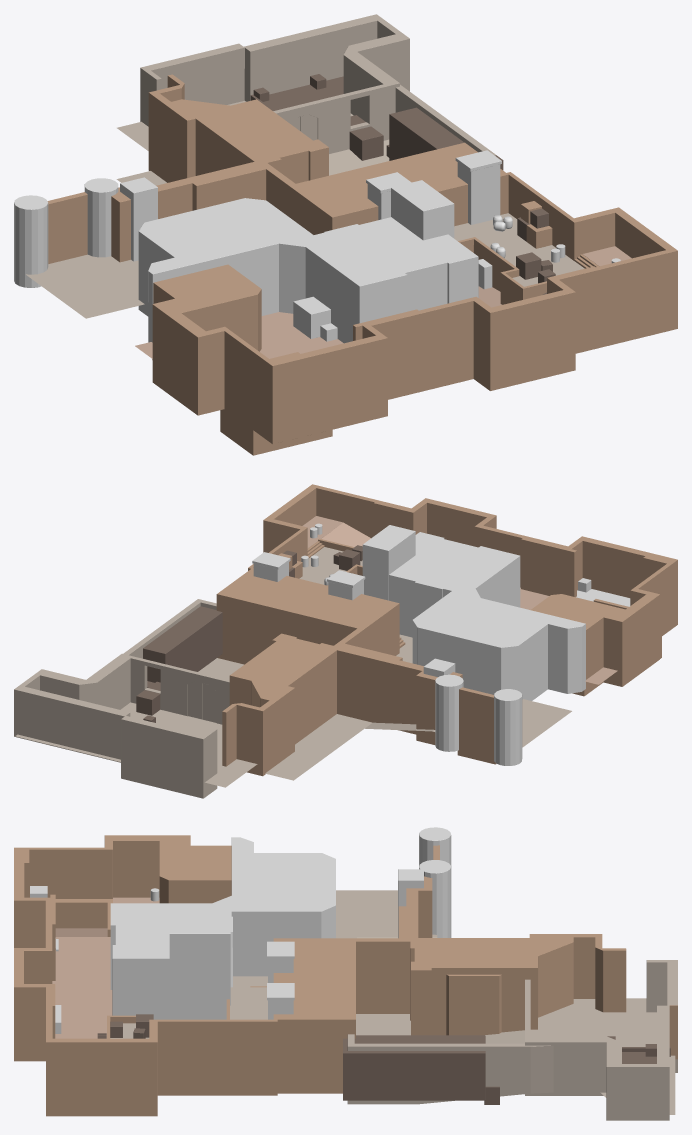
Rendered from DUST2_v0.0.2_alpha.fbx.
3 renders of one model, top to bottom at view 1: azimuth 30°, elevation 25°; view 2: azimuth 150°, elevation 25°; view 3: azimuth 270°, elevation 25°, orthographic. The views are drawn at different scales.
Parts seen in each view (by area): view 1: Cube.034, Cube.011, Cube.001, Cylinder.008, Cube.019, Cube.026, Cube.025, Cube.024, Cube.047, Cube.038, Cube.022, Cube.046; view 2: Cube.034, Cube.011, Cube.001, Cylinder.008, Cube.047, Cube.026, Cube.019, Cube.025, Cube.024, Cube.043, Cube.044, Cube.045 (+1 smaller); view 3: Cube.034, Cube.011, Cube.001, Cube.047, Cube.019, Cube.026, Cube.031, Cylinder.008, Cube.025, Cube.024.
Part boxes in pixels (<box>): Cube.034: <box>47,14,677,455</box>; Cube.011: <box>138,198,478,343</box>; Cube.001: <box>26,84,584,318</box>; Cylinder.008: <box>14,178,118,287</box>; Cube.019: <box>135,246,631,358</box>; Cube.026: <box>391,180,454,240</box>; Cube.025: <box>120,172,411,261</box>; Cube.024: <box>455,150,501,224</box>; Cube.047: <box>389,107,503,170</box>; Cube.038: <box>263,76,343,110</box>; Cube.022: <box>293,296,330,338</box>; Cube.046: <box>349,126,383,160</box>; Cube.034: <box>14,484,677,798</box>; Cube.011: <box>389,532,585,700</box>; Cube.001: <box>15,547,571,787</box>; Cylinder.008: <box>435,674,522,765</box>; Cube.047: <box>143,606,222,682</box>; Cube.026: <box>362,525,415,600</box>; Cube.019: <box>302,516,617,684</box>; Cube.025: <box>327,570,455,676</box>; Cube.024: <box>252,552,290,581</box>; Cube.043: <box>136,690,160,715</box>; Cube.044: <box>188,681,202,719</box>; Cube.045: <box>202,683,216,722</box>; Cube.034: <box>14,835,677,1120</box>; Cube.011: <box>110,837,335,1019</box>; Cube.001: <box>110,890,675,1114</box>; Cube.047: <box>343,1035,485,1100</box>; Cube.019: <box>52,897,159,1038</box>; Cube.026: <box>169,919,230,1019</box>; Cube.031: <box>446,974,501,1035</box>; Cylinder.008: <box>419,827,451,937</box>; Cube.025: <box>267,869,423,982</box>; Cube.024: <box>267,983,294,1019</box>.
Bounding box in the file's own units: 5974 × 1667 × 7503.
